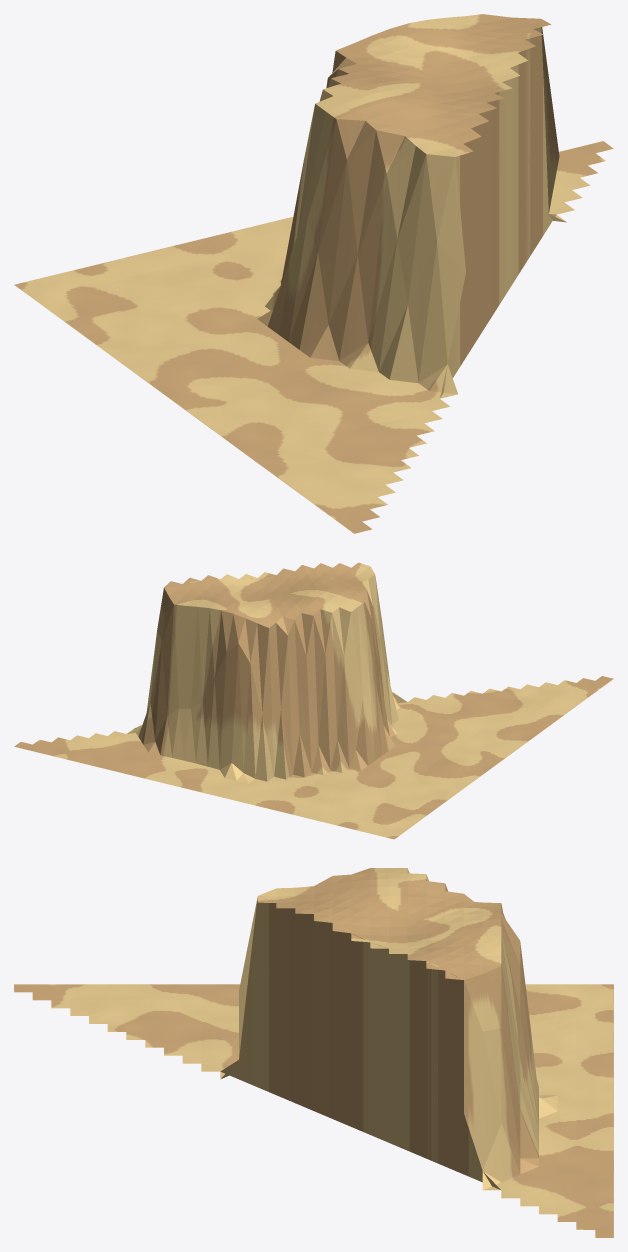
File: Desert_Mountains_04_SW.obj
The picture shows the model from 3 angles, top to bottom: view 1: azimuth 30°, elevation 25°; view 2: azimuth 150°, elevation 25°; view 3: azimuth 270°, elevation 25°; orthographic projection. The views are drawn at different scales.
Size of the model in its own units: 10 by 3.7 by 10.
Materials: 1 (1 with a texture image).
